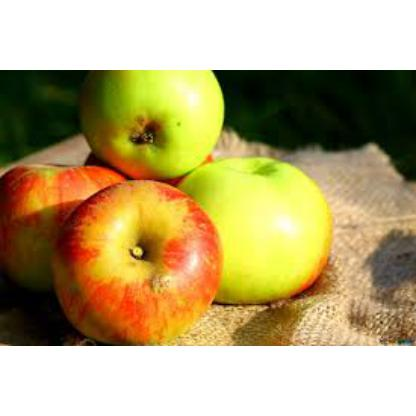apple: (62, 179, 216, 339), (178, 163, 336, 309), (76, 70, 222, 176), (2, 166, 121, 294)
